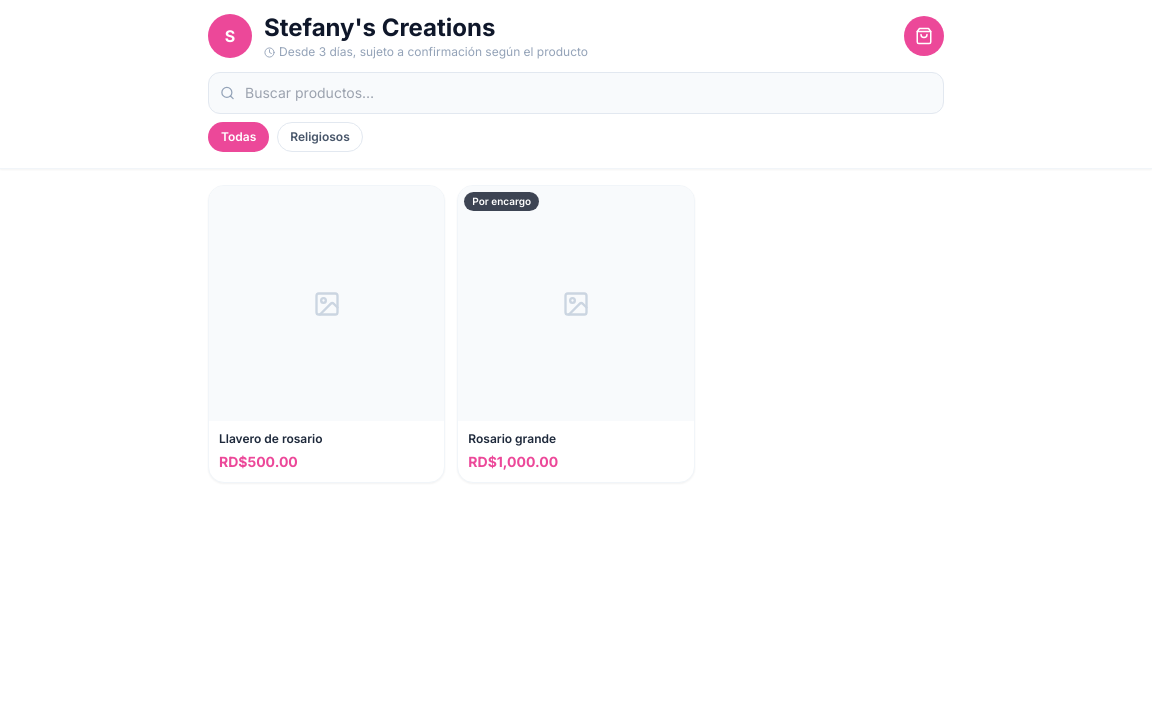
Scenario: CatalogView — carrito público › 3 unidades no dispara descuento; agregar una 4ta sí
This screenshot has width=1152, height=720.
Click the text "Llavero de rosario" at (271, 439), box [219,431,323,446]
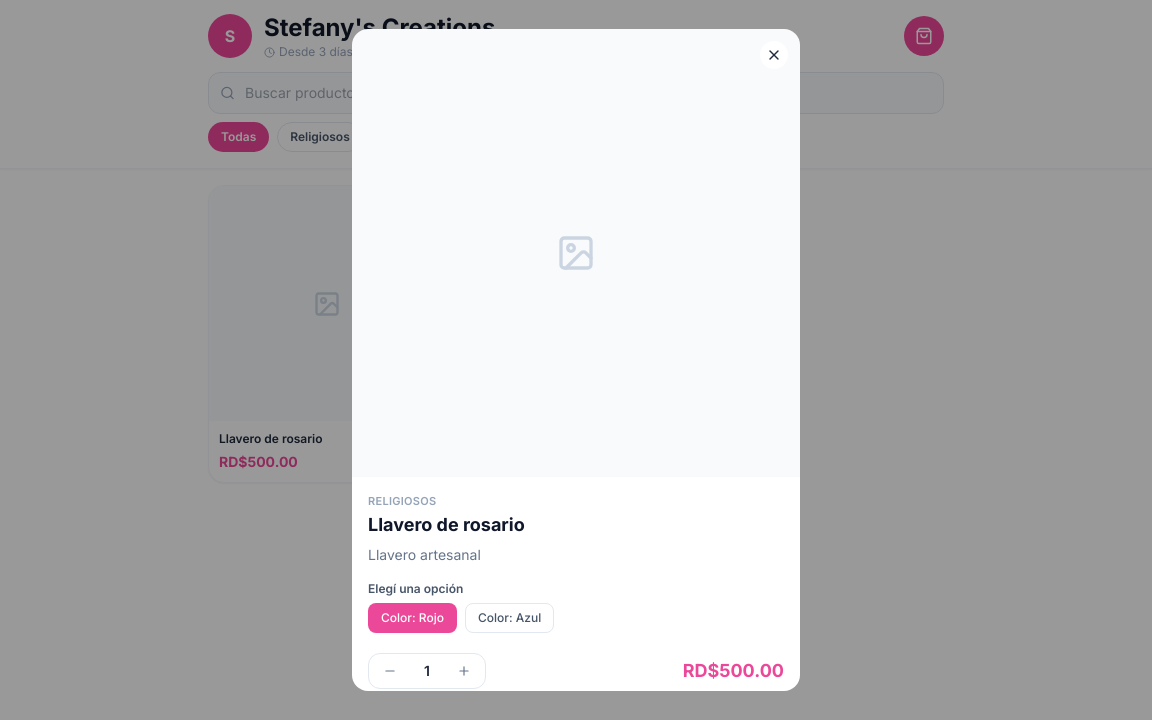
Click the 5th button at (464, 671), box [451,658,477,684]
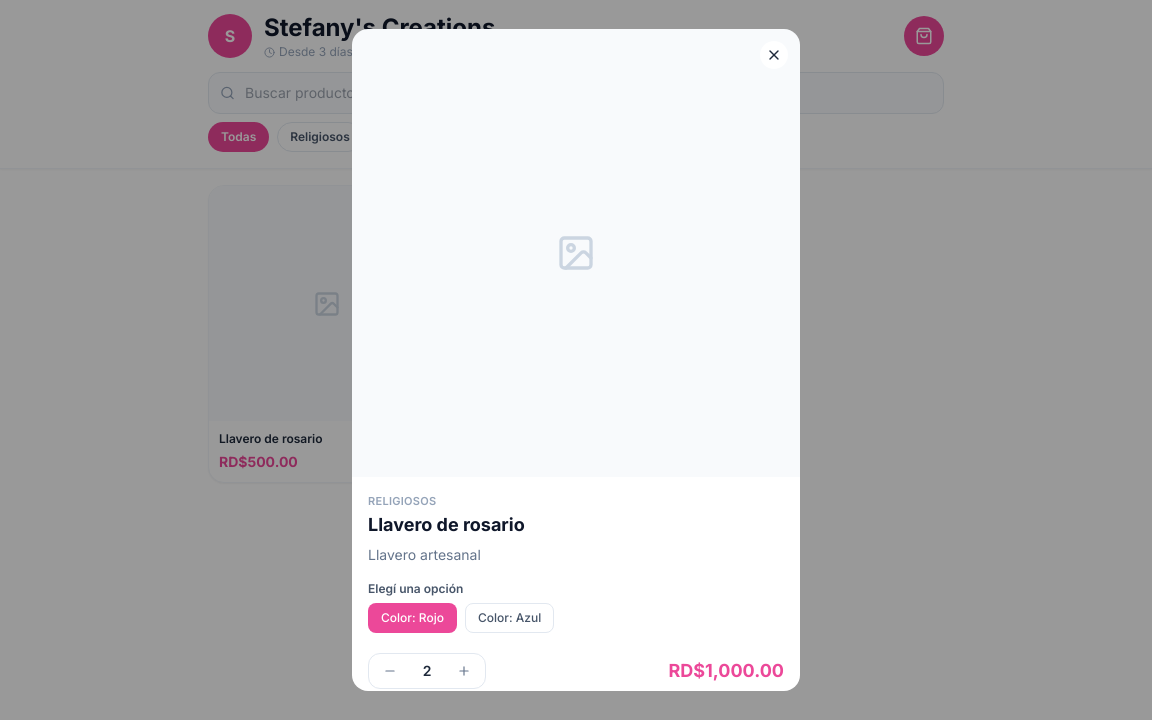
Click the 5th button at (464, 671), box [451,658,477,684]
(page scrolled)
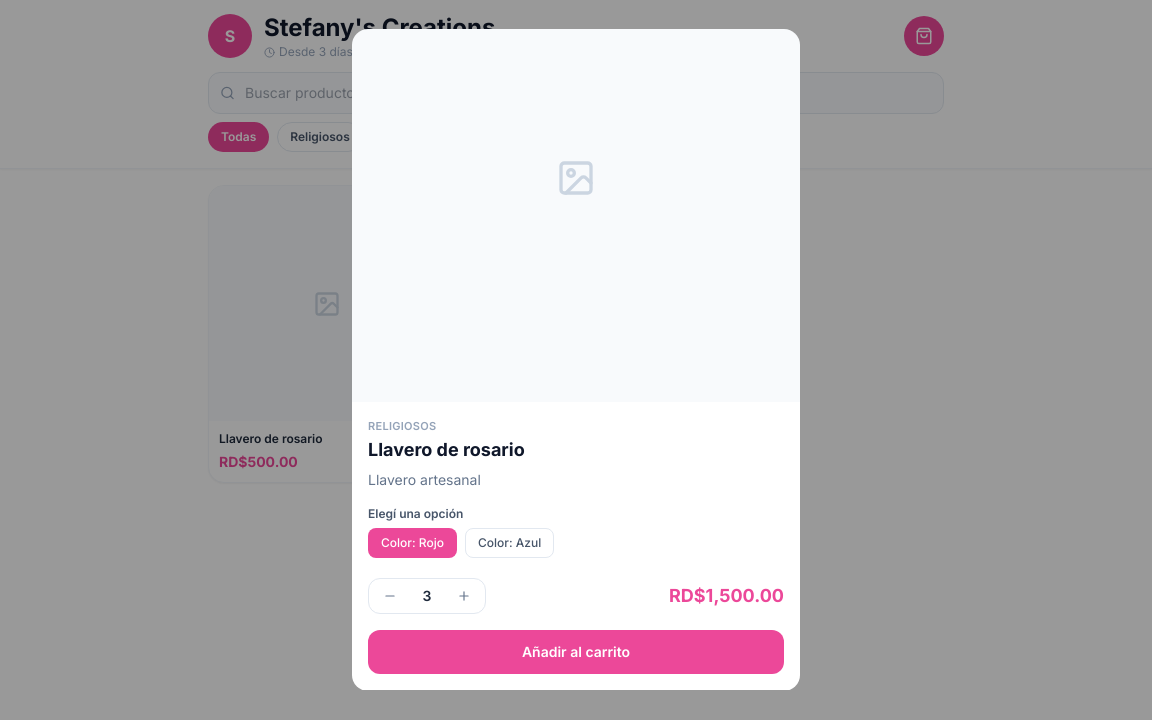
Click the button "Añadir al carrito" at (576, 652), box [368,630,784,674]
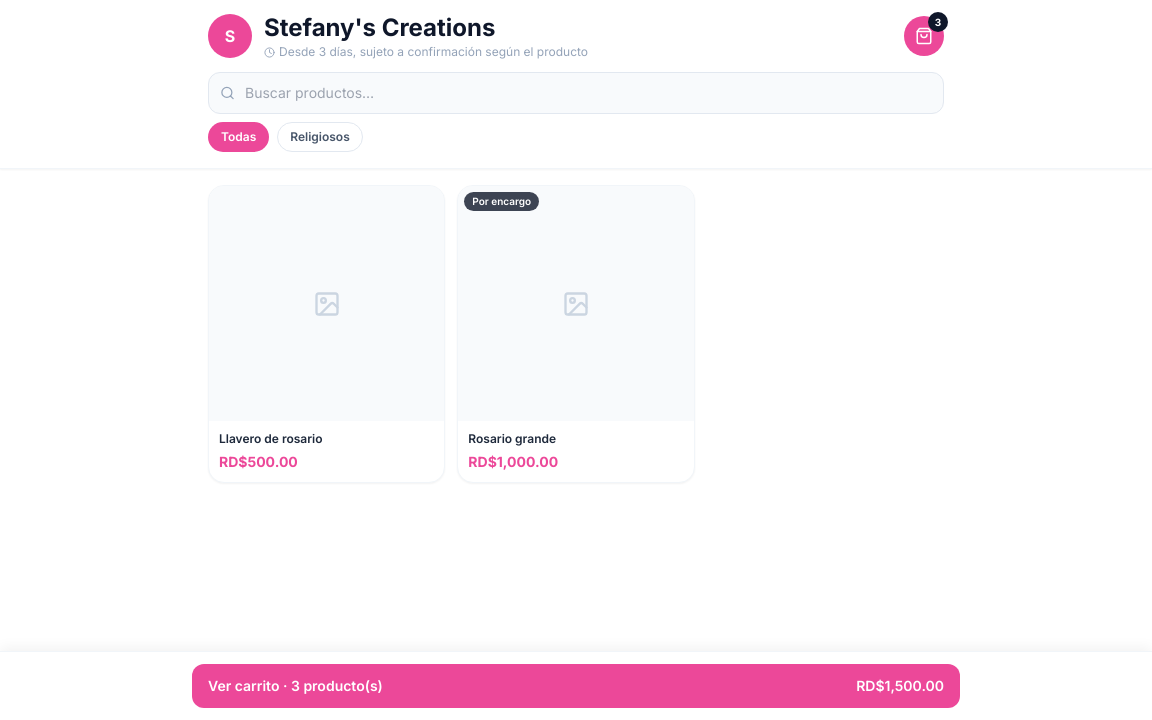
Click the button "Ver carrito · 3 producto(s) RD$1,500.00" at (249, 686), box [192,664,960,708]
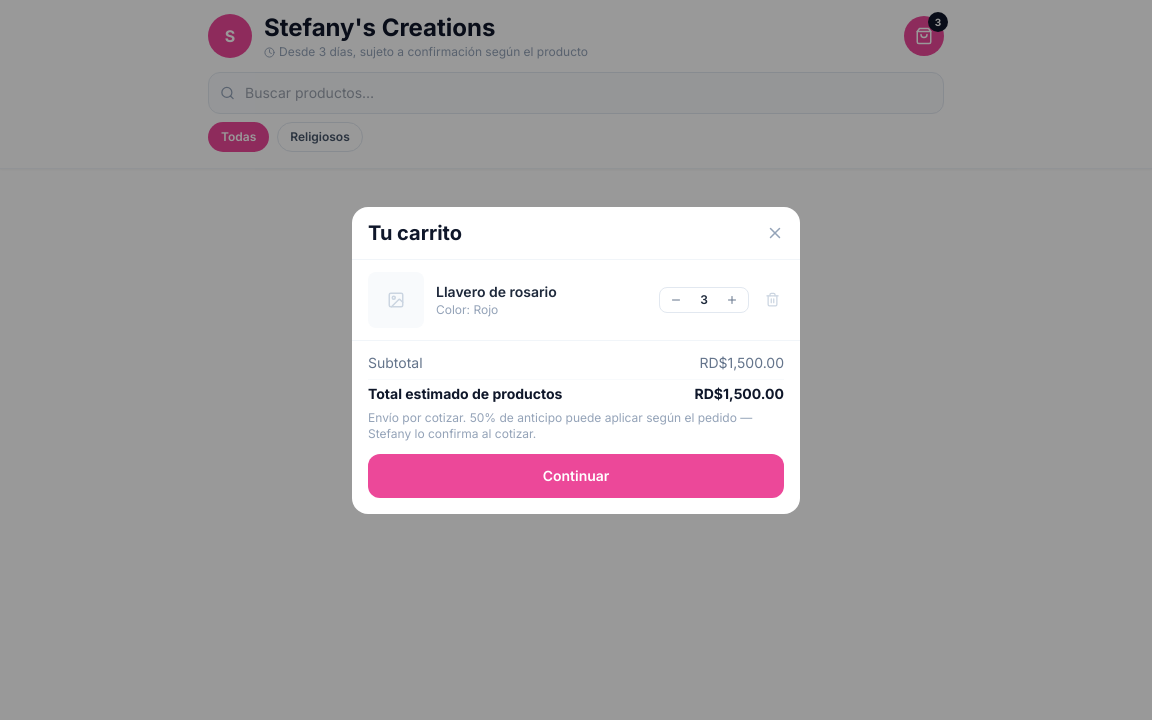
Expected: the text "Descuento" is not shown
// subir a 4 dentro del carrito
Click the 3rd button at (732, 300), box [722,290,742,310]
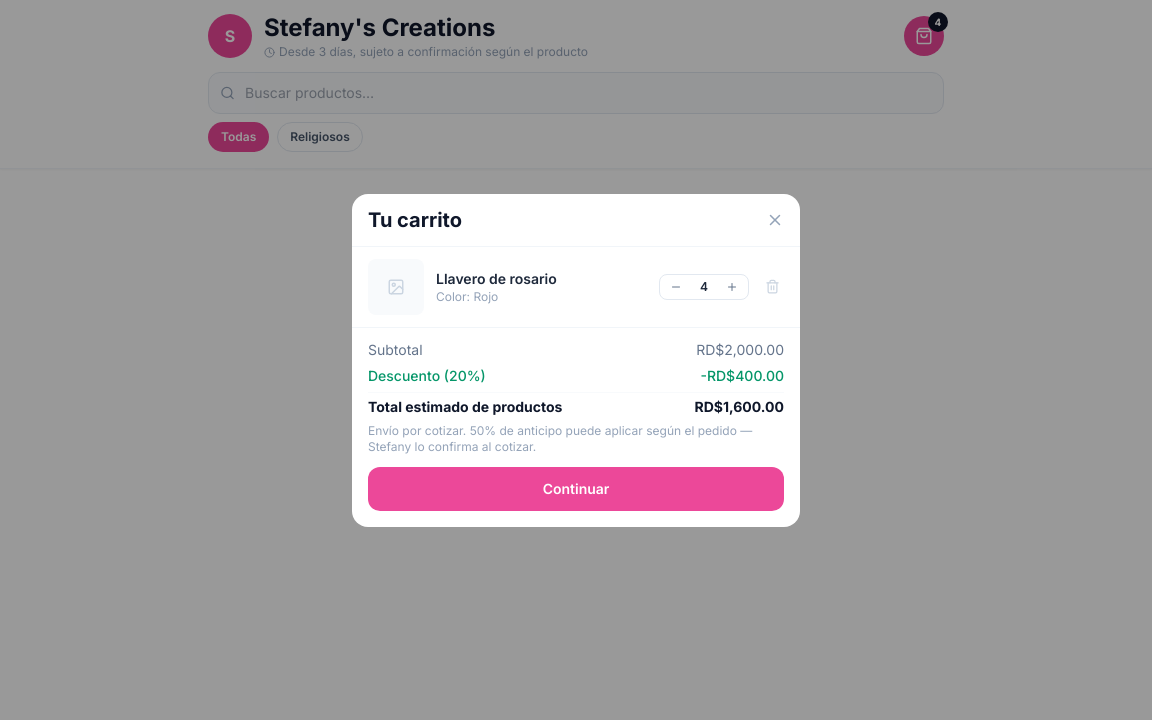
Expected: the text "Descuento (20%)" is shown, [368,366,486,386]
